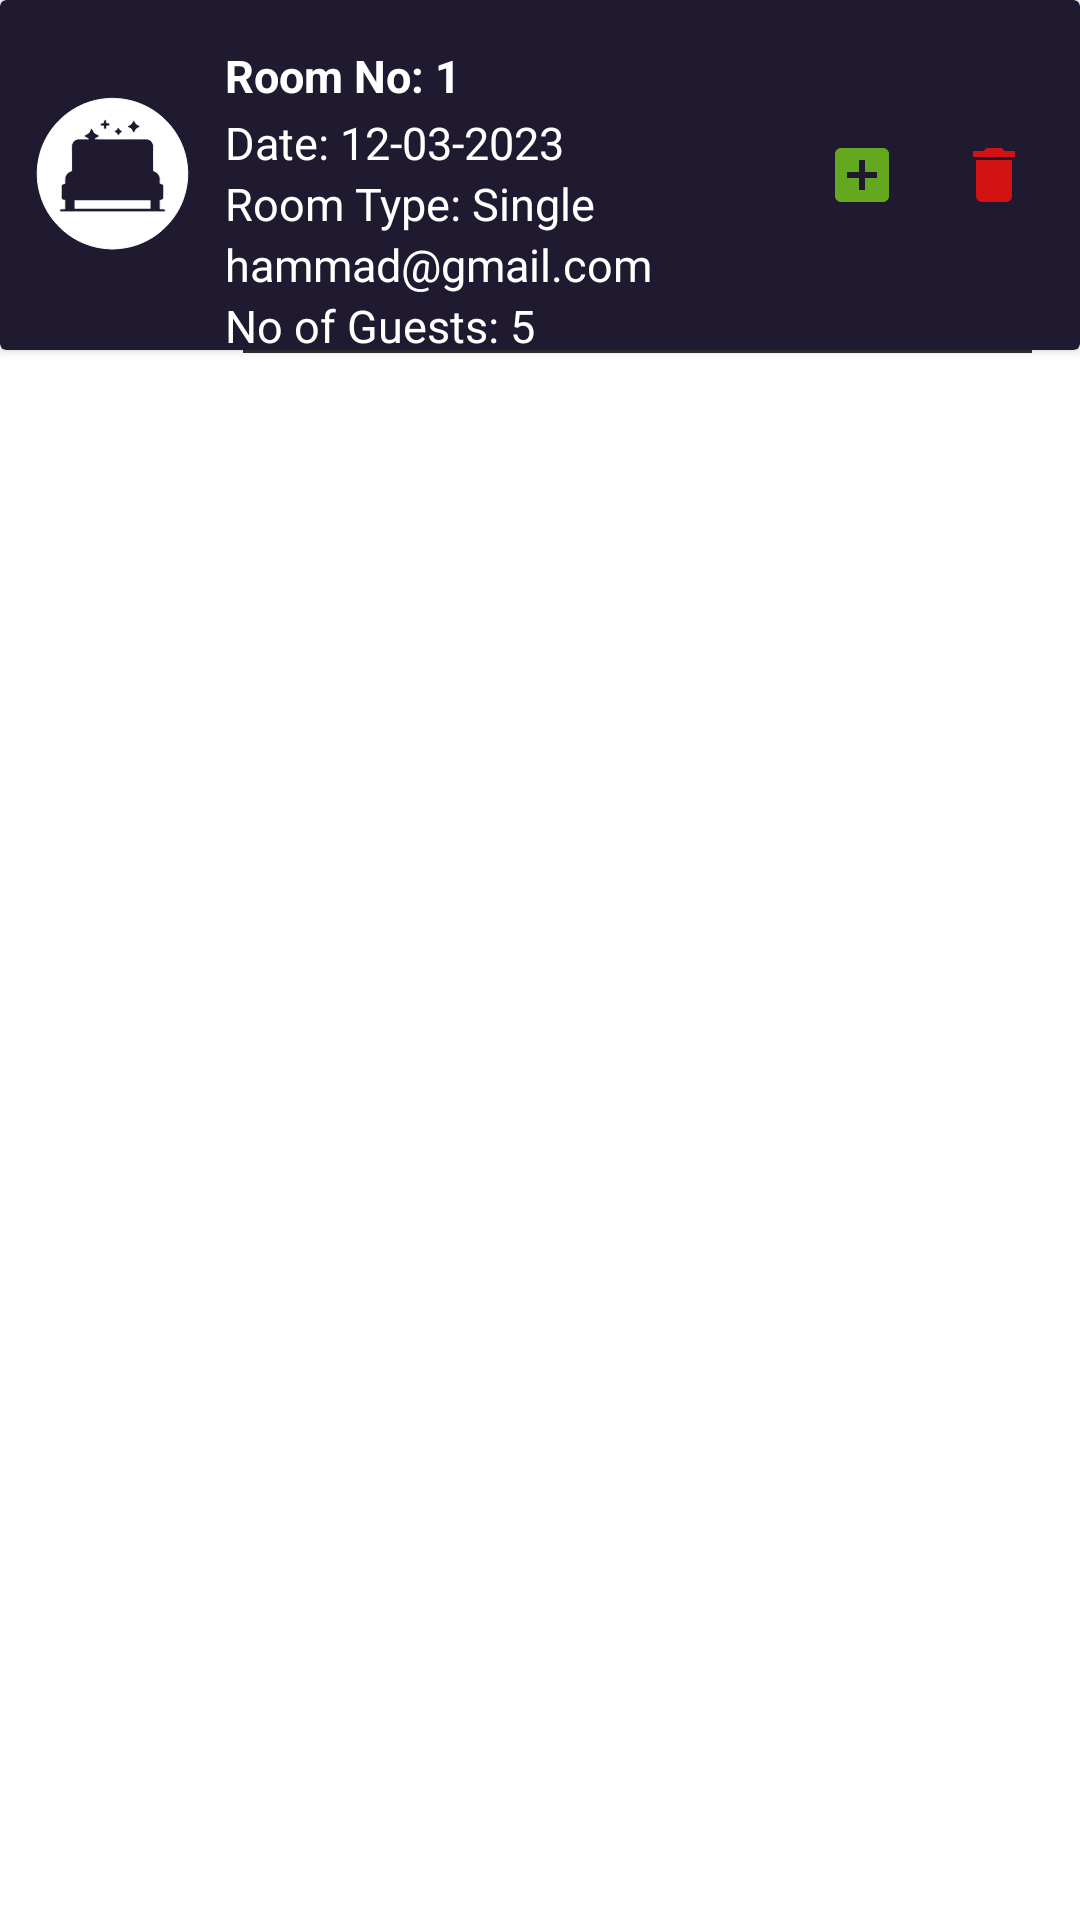

Icon click points for this 1080×1920 phone screenshot, format point (x, y):
add box: point (862, 175)
bed: point (112, 173)
delete: point (994, 175)
